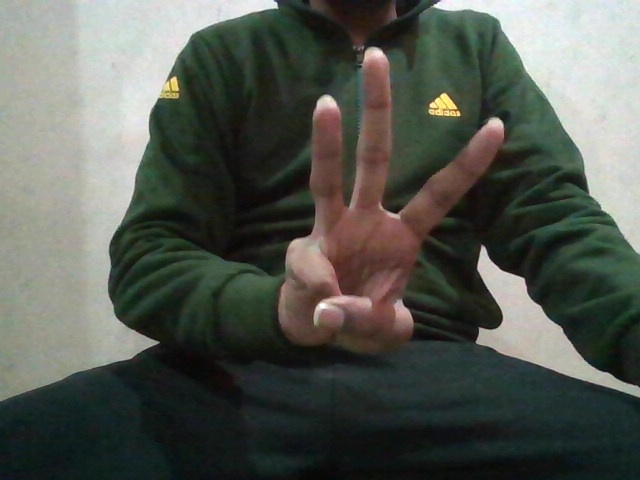W: (289, 52, 479, 318)
